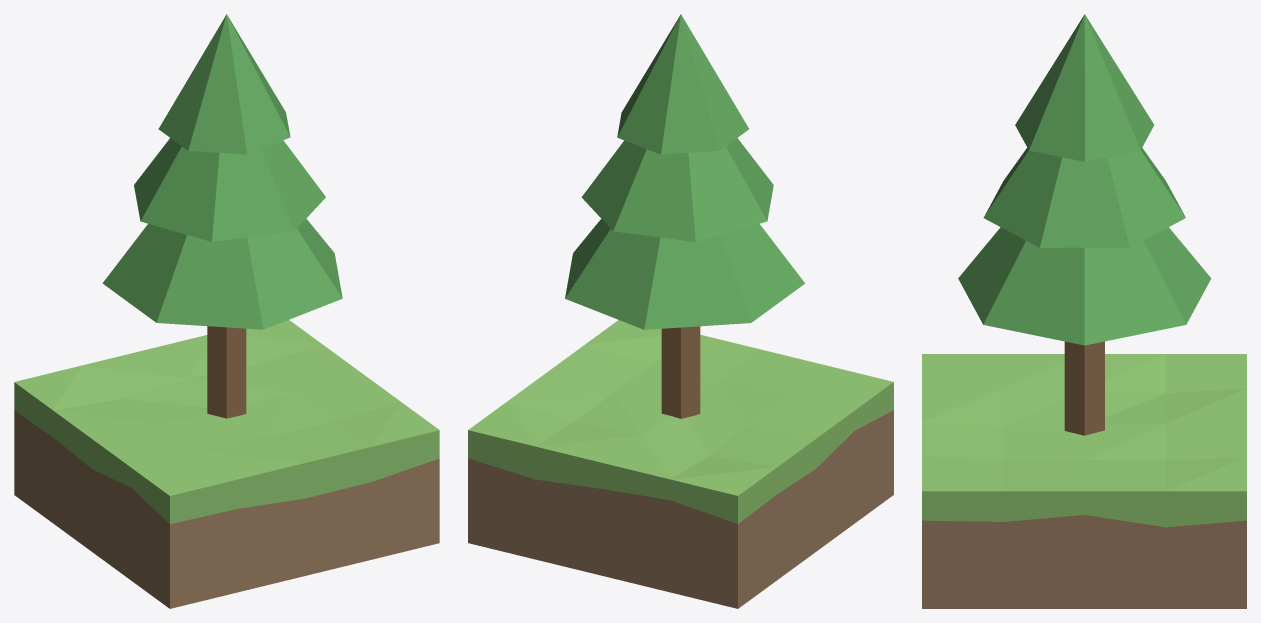
File: GrassTile_Tree1.fbx
The picture shows the model from 3 angles, left to right: view 1: azimuth 30°, elevation 25°; view 2: azimuth 150°, elevation 25°; view 3: azimuth 270°, elevation 25°; orthographic projection. The views are drawn at different scales.
Parts seen in each view (by area): view 1: GrassTile_Tree1; view 2: GrassTile_Tree1; view 3: GrassTile_Tree1.
Part boxes in pixels (left/top/right/bottom): GrassTile_Tree1: left=14, top=14, right=439, bottom=608; GrassTile_Tree1: left=468, top=14, right=893, bottom=608; GrassTile_Tree1: left=922, top=14, right=1246, bottom=608.
Bounding box in the file's own units: 1 × 1.79 × 1.
